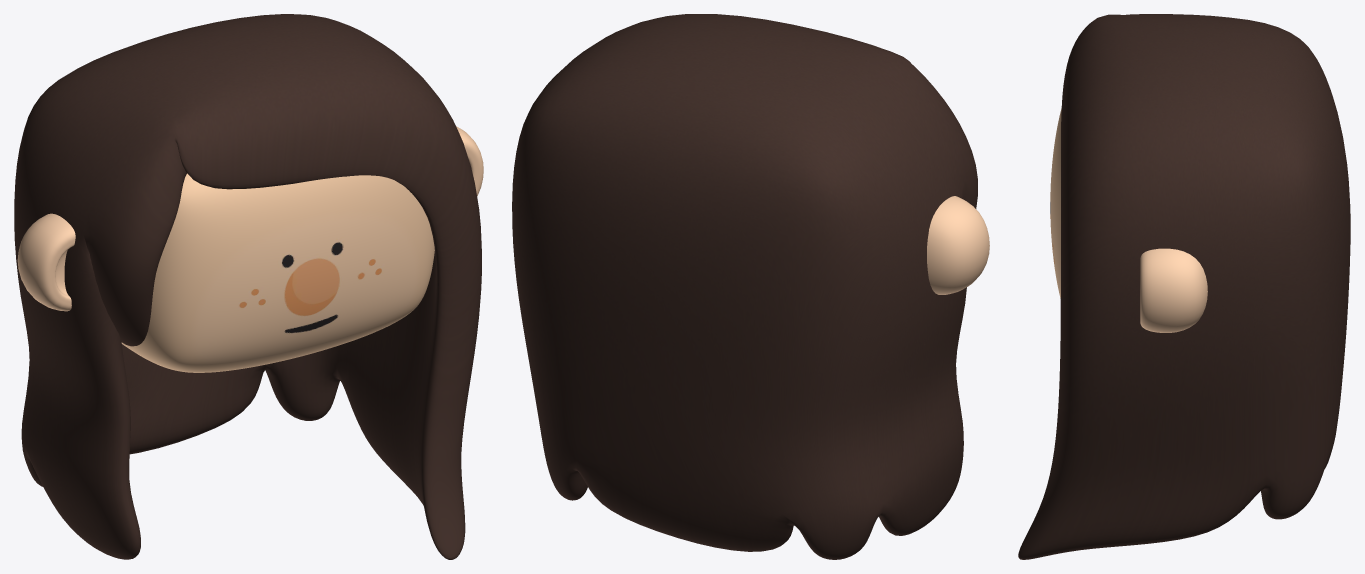
The model's file is girl head.fbx.
The picture shows the model from 3 angles, left to right: view 1: azimuth 30°, elevation 25°; view 2: azimuth 150°, elevation 25°; view 3: azimuth 270°, elevation 25°; orthographic projection. The views are drawn at different scales.
Visible parts, largest first — view 1: girl_head; view 2: girl_head; view 3: girl_head.
Part boxes in pixels (box(x1,y1,x2,y2)): girl_head: box(14, 14, 483, 559); girl_head: box(512, 14, 989, 559); girl_head: box(1018, 14, 1350, 559).
Bounding box in the file's own units: 86.15 × 87.62 × 58.37.
Materials: 3 (3 with a texture image).
